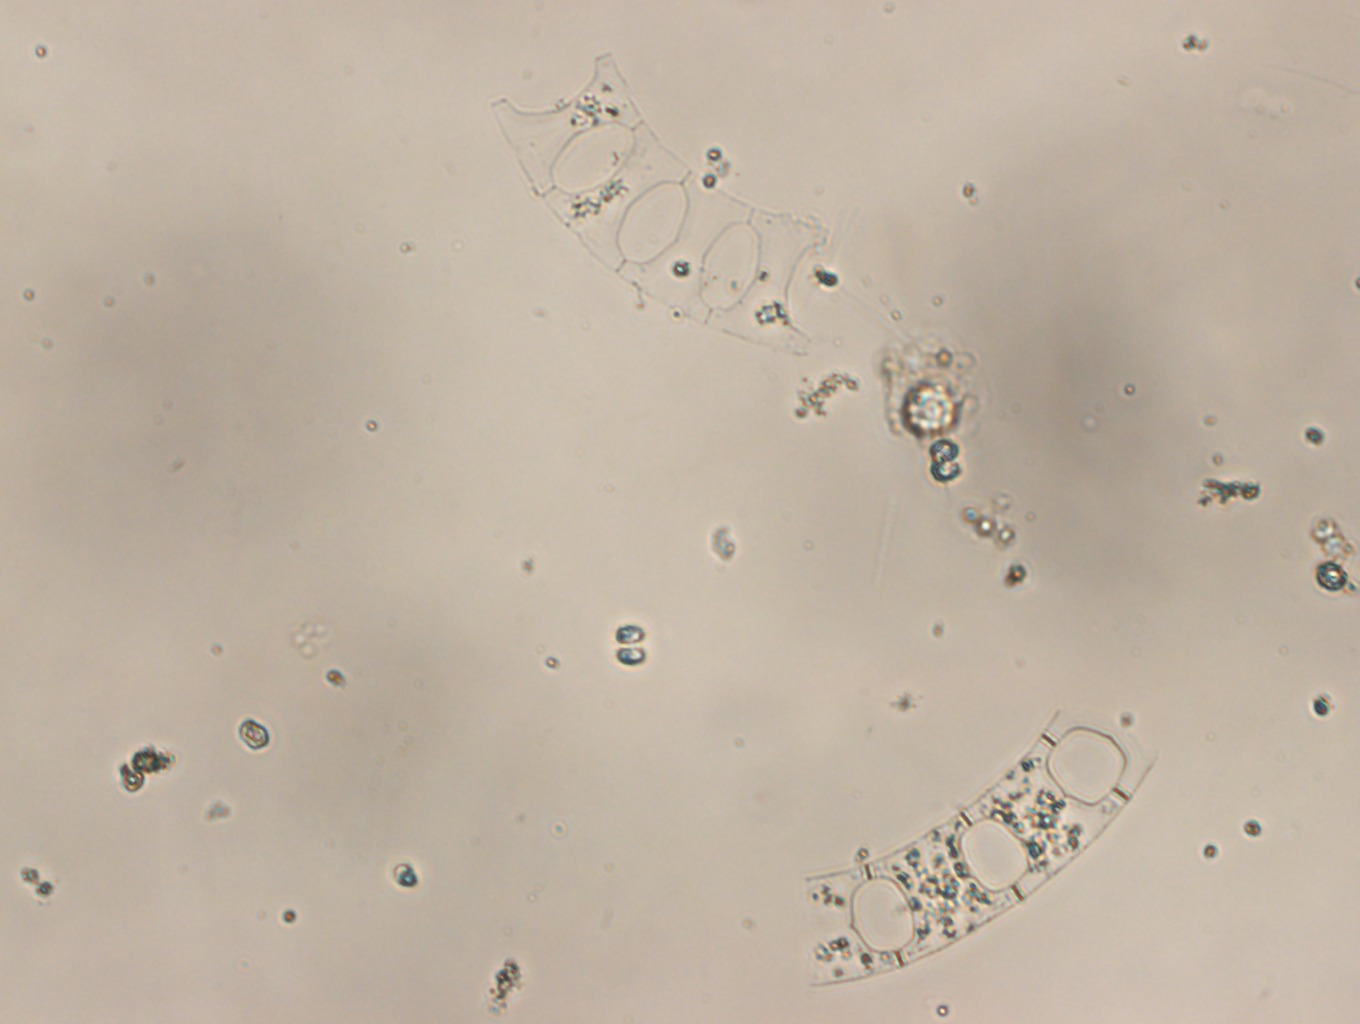eucampia: (486, 53, 827, 361), (802, 706, 1163, 989)
